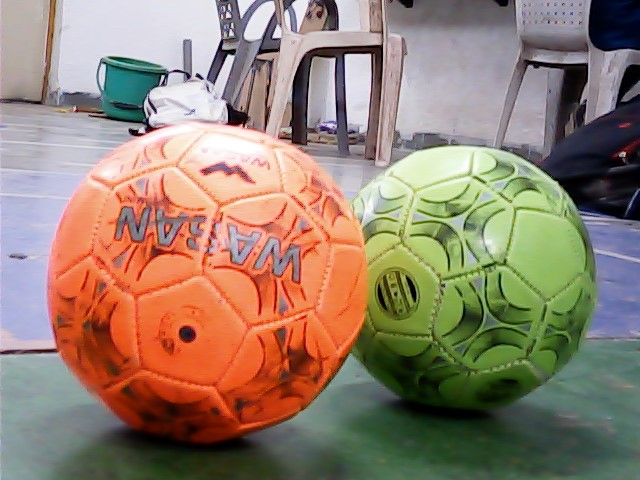Green_ball: (347, 127, 609, 417)
Orange_ball: (49, 123, 369, 445)
